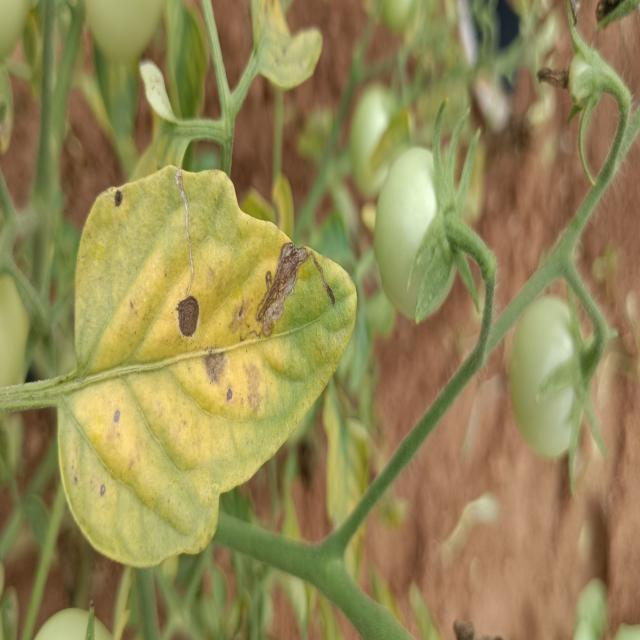tomato_early blight: (0, 163, 356, 568), (242, 0, 324, 99)
